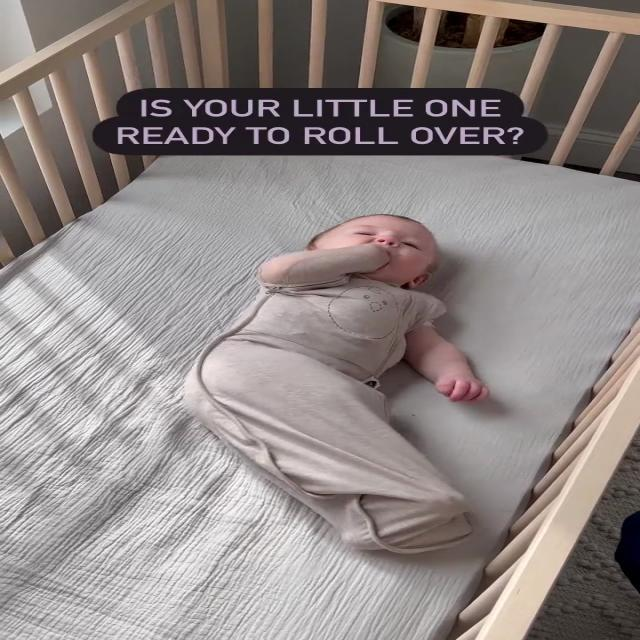baby: (170, 210, 522, 562)
